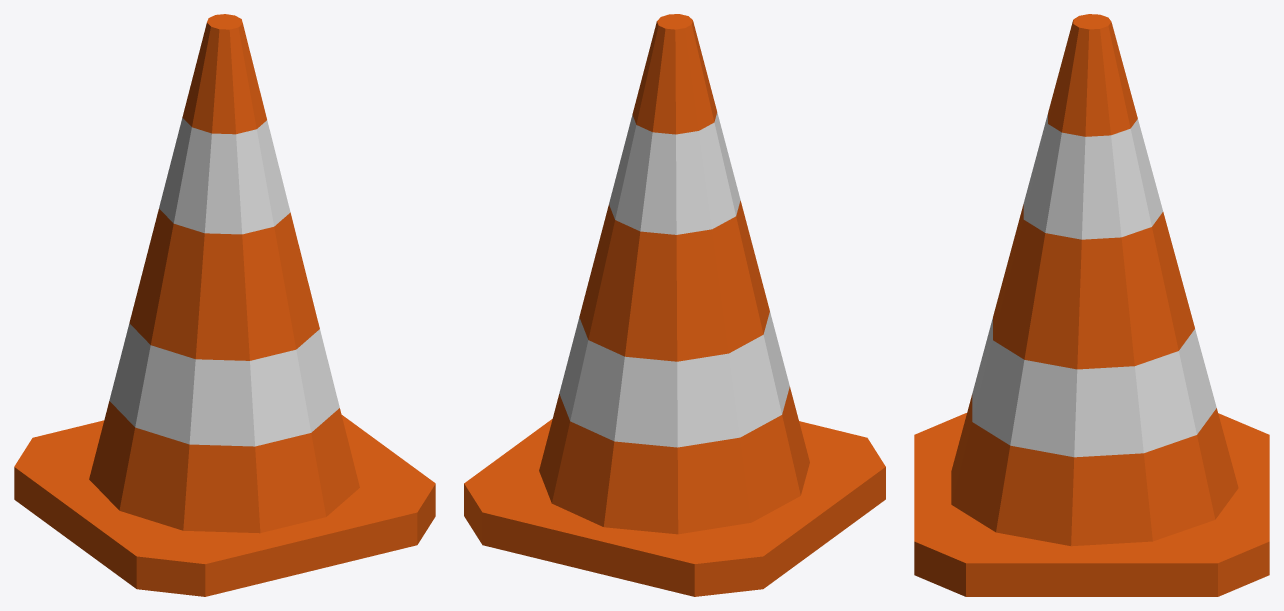
Rendered from traffic cone 1.fbx.
3 renders of one model, left to right at view 1: azimuth 30°, elevation 25°; view 2: azimuth 150°, elevation 25°; view 3: azimuth 270°, elevation 25°, orthographic. The views are drawn at different scales.
Parts seen in each view (by area): view 1: Cone, Cube; view 2: Cone, Cube; view 3: Cone, Cube.
Boxes of the visible parts, box(x1,y1,x2,y2) form: Cone: box(89, 14, 359, 533); Cube: box(14, 415, 435, 596); Cone: box(539, 14, 809, 534); Cube: box(464, 419, 885, 596); Cone: box(951, 14, 1238, 546); Cube: box(914, 413, 1269, 596).
Size of the model in its own units: 47.68 by 74.02 by 47.68.
